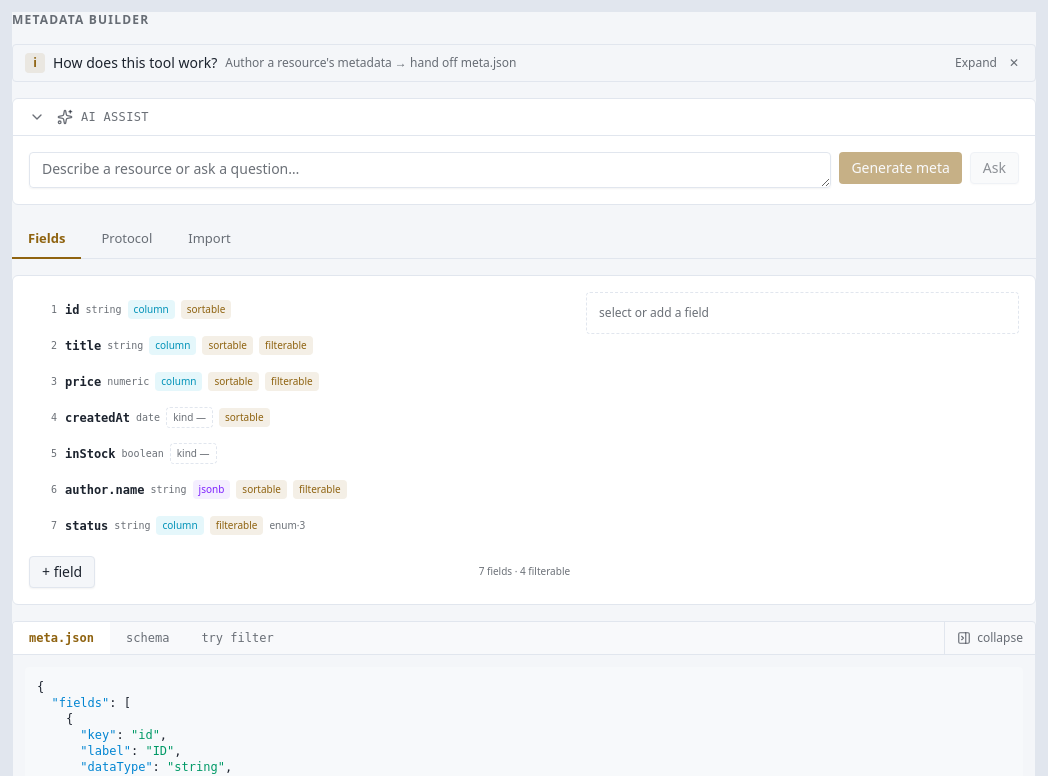
Test case: MetadataBuilderTool AI panel › renders the collapsible ToolIntro and expands to the concepts
Expected: the text "Field kinds, data types, enum domains, filterability." is not shown
Click the button "How does this tool work".
click(135, 62)  # box [53, 53, 997, 73]
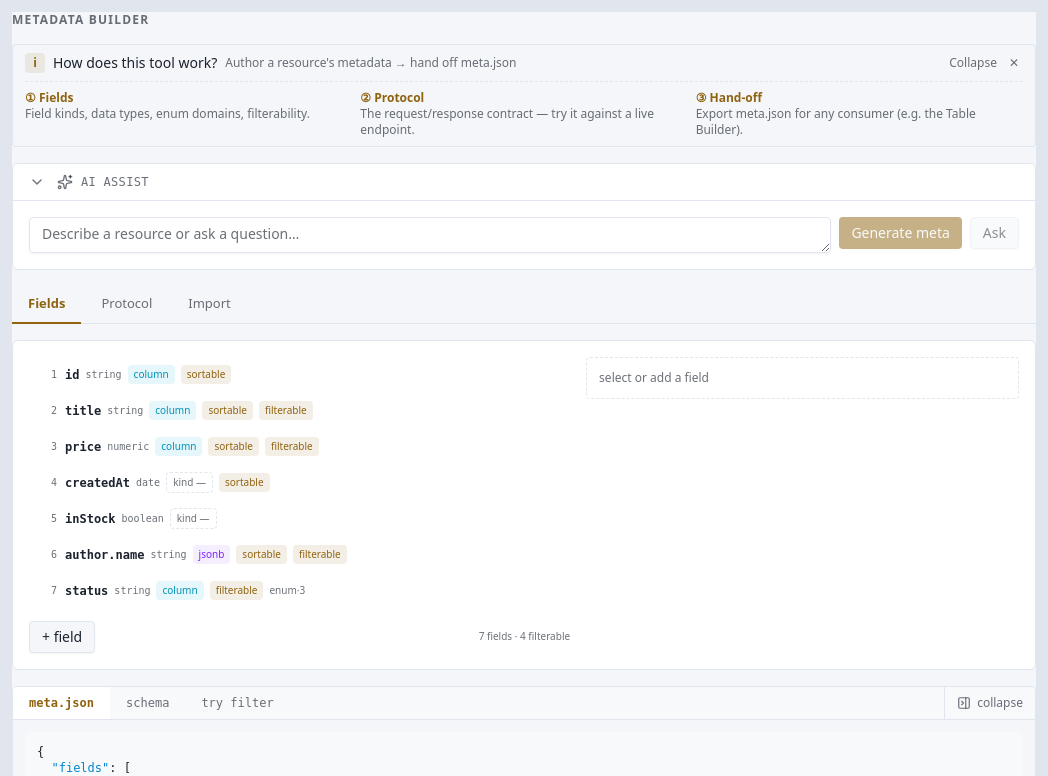
Expected: the text "Field kinds, data types, enum domains, filterability." is shown, [25, 106, 352, 122]
